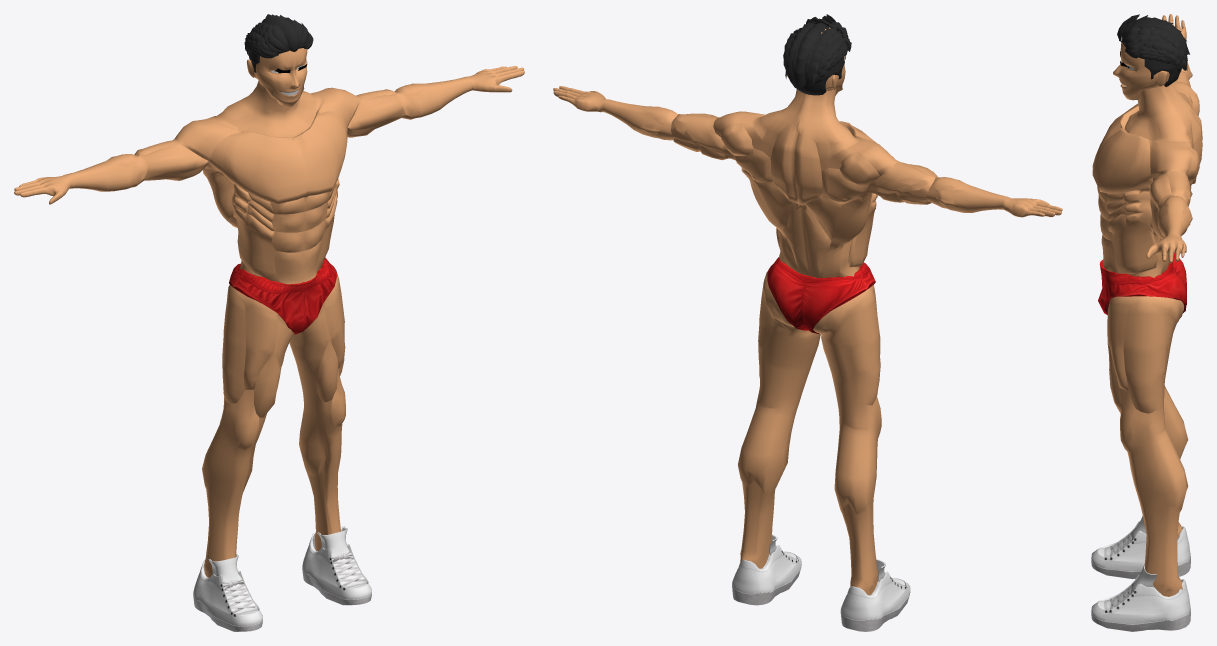
Rendered from macho_fbx.fbx.
The picture shows the model from 3 angles, left to right: view 1: azimuth 30°, elevation 25°; view 2: azimuth 150°, elevation 25°; view 3: azimuth 270°, elevation 25°; orthographic projection.
Visible parts, largest first — view 1: Macho_Combine; view 2: Macho_Combine; view 3: Macho_Combine.
Boxes of the visible parts, left/top/right/bottom form: Macho_Combine: left=14, top=14, right=524, bottom=631; Macho_Combine: left=553, top=14, right=1062, bottom=631; Macho_Combine: left=1091, top=14, right=1202, bottom=631.
Bounding box in the file's own units: 586 × 645 × 112.
